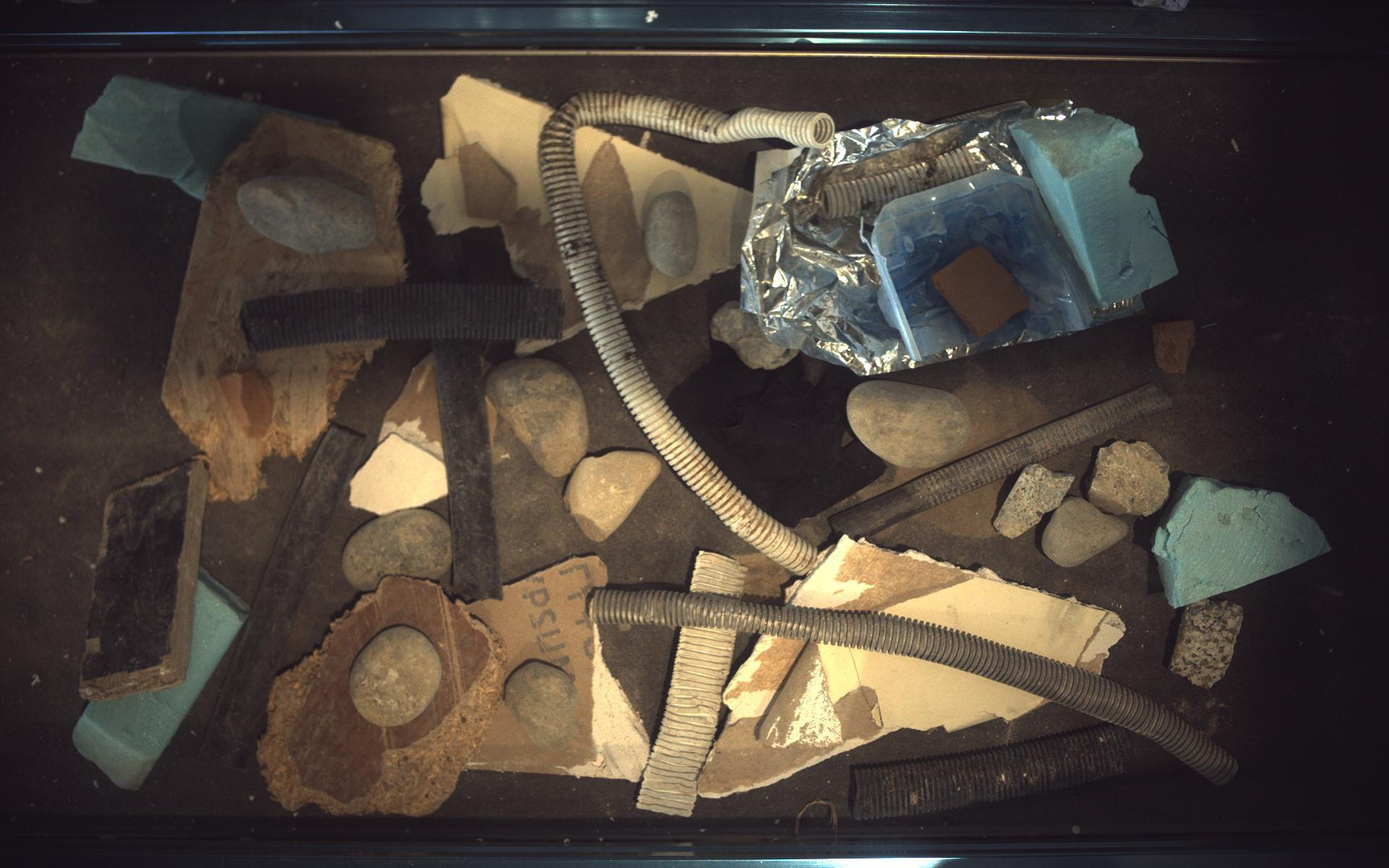brick: (933, 244, 1031, 337), (459, 142, 517, 221), (217, 367, 273, 438), (1155, 320, 1198, 373)
concrete: (1155, 477, 1333, 608), (1173, 600, 1246, 690), (995, 464, 1076, 539), (1090, 441, 1171, 516), (712, 301, 799, 370)
foam: (71, 569, 250, 791), (1014, 108, 1180, 307), (70, 75, 334, 198)
general_w: (743, 99, 1147, 375), (873, 170, 1100, 362), (669, 343, 887, 527)
gypsum_board: (700, 636, 1047, 799), (787, 537, 1128, 674), (421, 75, 585, 359), (467, 556, 650, 783), (576, 127, 752, 310), (350, 354, 448, 516), (486, 398, 497, 444)
pipes: (539, 91, 836, 576), (590, 589, 1241, 786), (202, 425, 365, 769), (831, 384, 1175, 539), (407, 197, 502, 603), (853, 725, 1133, 822), (240, 283, 563, 352), (637, 628, 737, 818), (819, 147, 990, 219), (692, 552, 747, 597)
stone: (485, 358, 588, 477), (848, 380, 972, 469), (236, 174, 375, 253), (348, 626, 442, 728), (341, 509, 451, 592), (564, 451, 663, 542), (504, 661, 578, 752), (1044, 498, 1131, 569), (645, 189, 700, 277)
wood: (161, 112, 406, 502), (257, 577, 504, 817), (78, 459, 207, 702)
